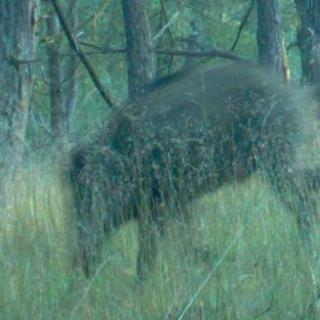Pig: (66, 31, 320, 295)
